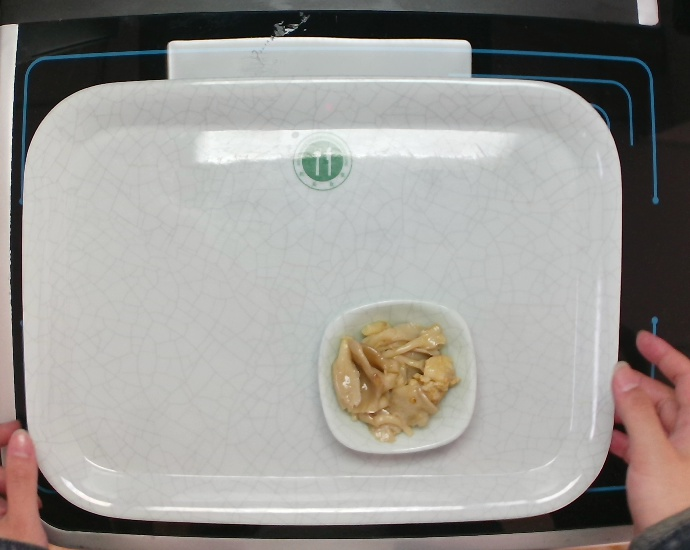JYsf-Si_Fang_Die: (311, 291, 486, 459)
